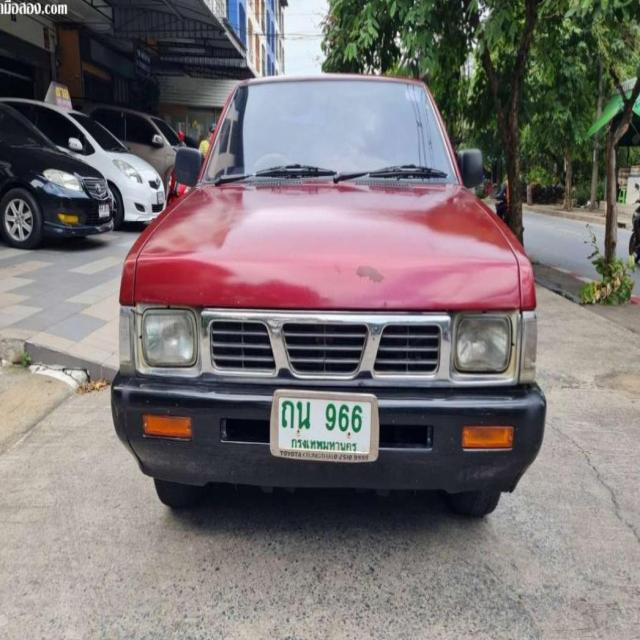license_plate: (273, 387, 380, 466)
